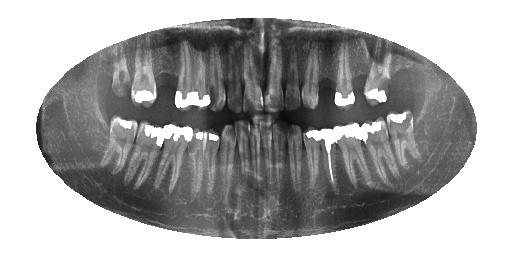1chipped: (388, 110, 425, 166)
i10decay: (236, 118, 250, 198)
i11decay: (221, 123, 237, 198)
i12chipped: (205, 129, 221, 199)
i13chipped: (189, 128, 204, 198)
i14healthy: (161, 122, 192, 188)
i15healthy: (134, 122, 161, 187)
i16healthy: (105, 114, 136, 182)
i2healthy: (364, 117, 398, 185)
i3healthy: (337, 122, 362, 190)
i4healthy: (322, 126, 336, 193)
i5chipped: (304, 127, 322, 188)
i6decay: (287, 124, 303, 192)
i7decay: (273, 121, 288, 182)
i8decay: (263, 115, 273, 182)
i9decay: (250, 114, 262, 181)
u10decay: (228, 57, 243, 113)
u11decay: (208, 57, 227, 112)
u12healthy: (192, 56, 208, 113)
u13healthy: (175, 55, 193, 112)
u14loss: (156, 58, 177, 105)
u15chipped: (132, 52, 156, 108)
u16decay: (108, 50, 131, 100)
u1loss: (390, 67, 409, 105)
u2chipped: (364, 62, 391, 108)
u3loss: (354, 58, 368, 105)
u4healthy: (334, 61, 355, 108)
u5loss: (319, 60, 337, 111)
u6decay: (302, 59, 320, 113)
u7decay: (283, 59, 300, 113)
u8decay: (263, 58, 285, 113)
u9decay: (242, 59, 263, 112)
